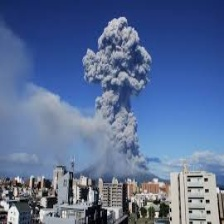smoke: (83, 14, 156, 160)
